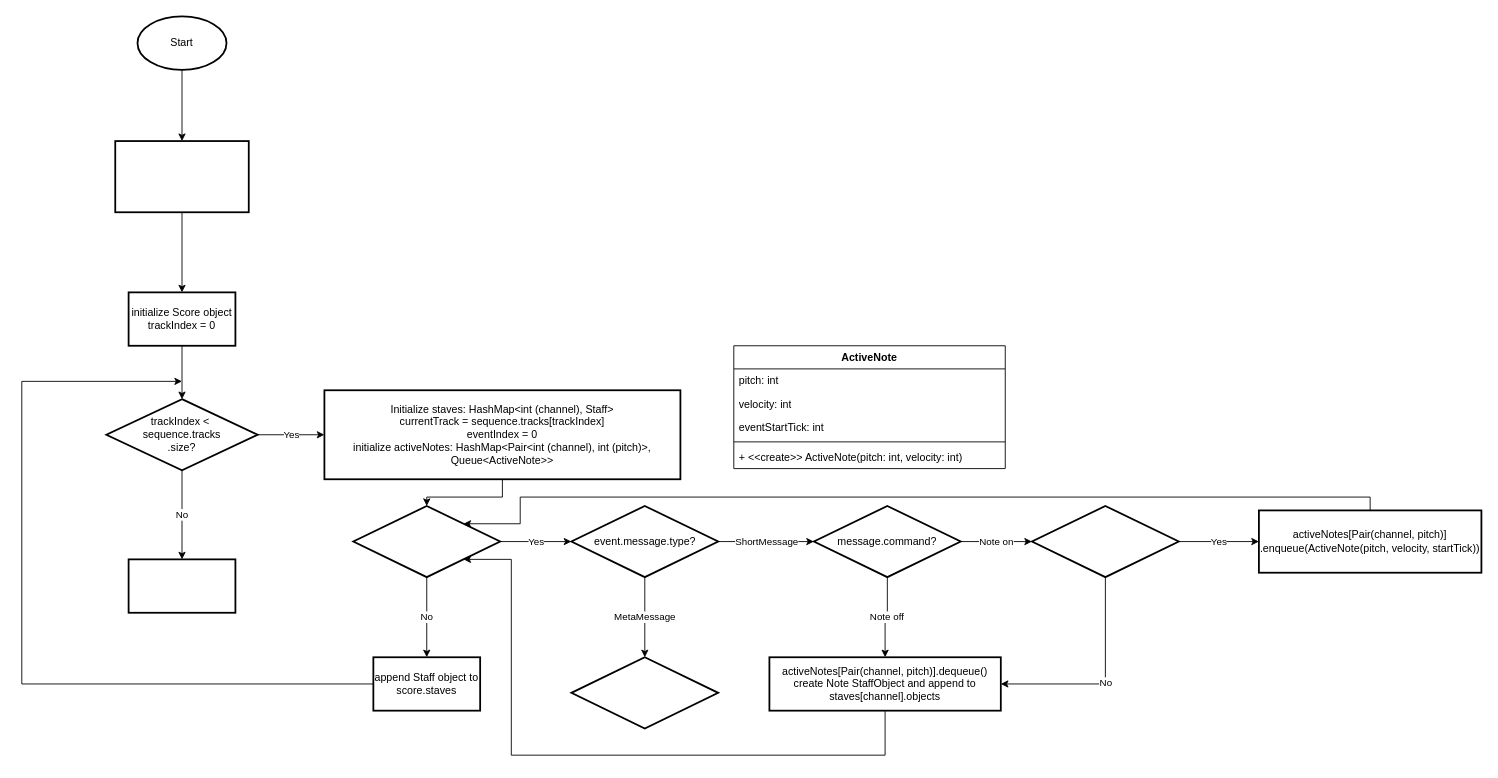
Some shapes in this 1498 by 778 pixel diagram are drawn without their labels. The shapes that lost their labels are listed below. From the top down, each one's centre as x and y in pixels, then its label:
At [181,176]: "get midi sequence from midi file using MidiSystem.getSequence".
At [426,541]: "eventIndex < currentTrack.size?".
At [1105,541]: "velocity > 0?".
At [181,585]: "return Score object".
At [644,692]: "metaMessageType?".
